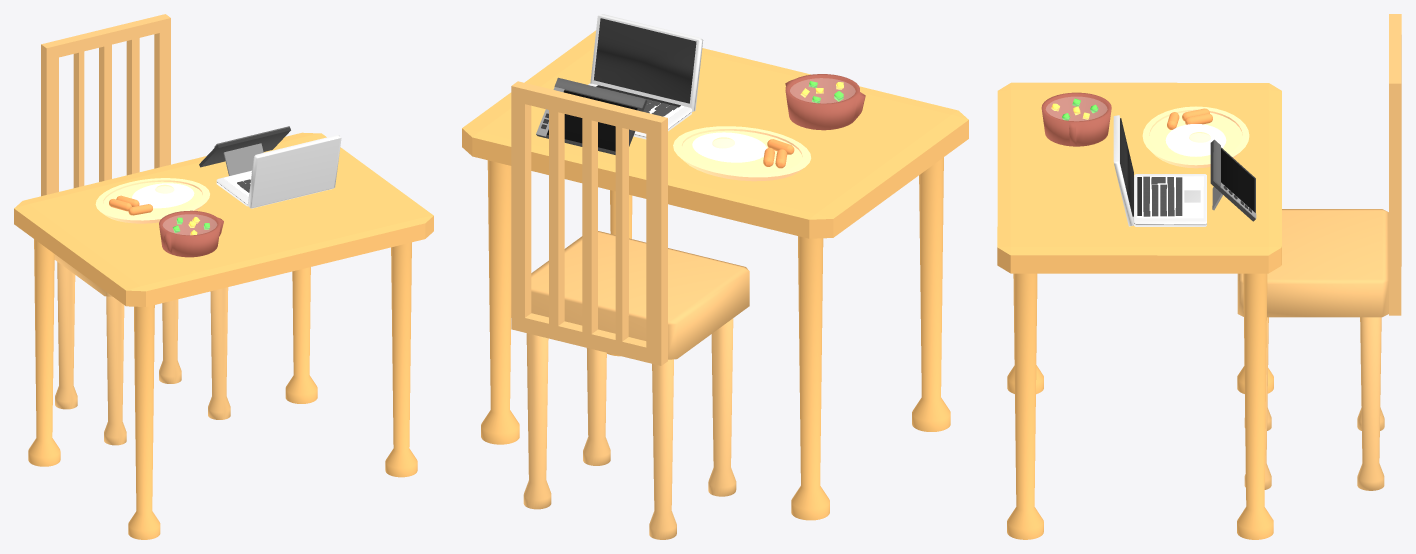
Rendered from PC_and_table.glb.
3 renders of one model, left to right at view 1: azimuth 30°, elevation 25°; view 2: azimuth 150°, elevation 25°; view 3: azimuth 270°, elevation 25°, orthographic. The views are drawn at different scales.
Visible parts, largest first — view 1: table, cheir, Meubook, 円柱.003, soup1, pentab; view 2: table, cheir, Meubook, 円柱.003, soup1, pentab; view 3: table, cheir, Meubook, 円柱.003, soup1, pentab.
Part boxes in pixels (<box>): table: <box>14,132,433,539</box>; cheir: <box>41,14,230,445</box>; Meubook: <box>216,135,341,208</box>; 円柱.003: <box>95,178,209,223</box>; soup1: <box>159,210,223,257</box>; pentab: <box>199,126,290,175</box>; table: <box>462,30,968,520</box>; cheir: <box>511,81,749,539</box>; Meubook: <box>588,14,703,139</box>; 円柱.003: <box>673,126,811,181</box>; soup1: <box>785,74,865,130</box>; pentab: <box>536,77,647,154</box>; table: <box>997,82,1281,539</box>; cheir: <box>1237,14,1401,490</box>; Meubook: <box>1113,115,1206,226</box>; 円柱.003: <box>1142,106,1249,168</box>; soup1: <box>1041,92,1111,146</box>; pentab: <box>1210,139,1256,221</box>.
Size of the model in its own units: 1.16 by 1.27 by 1.14.
